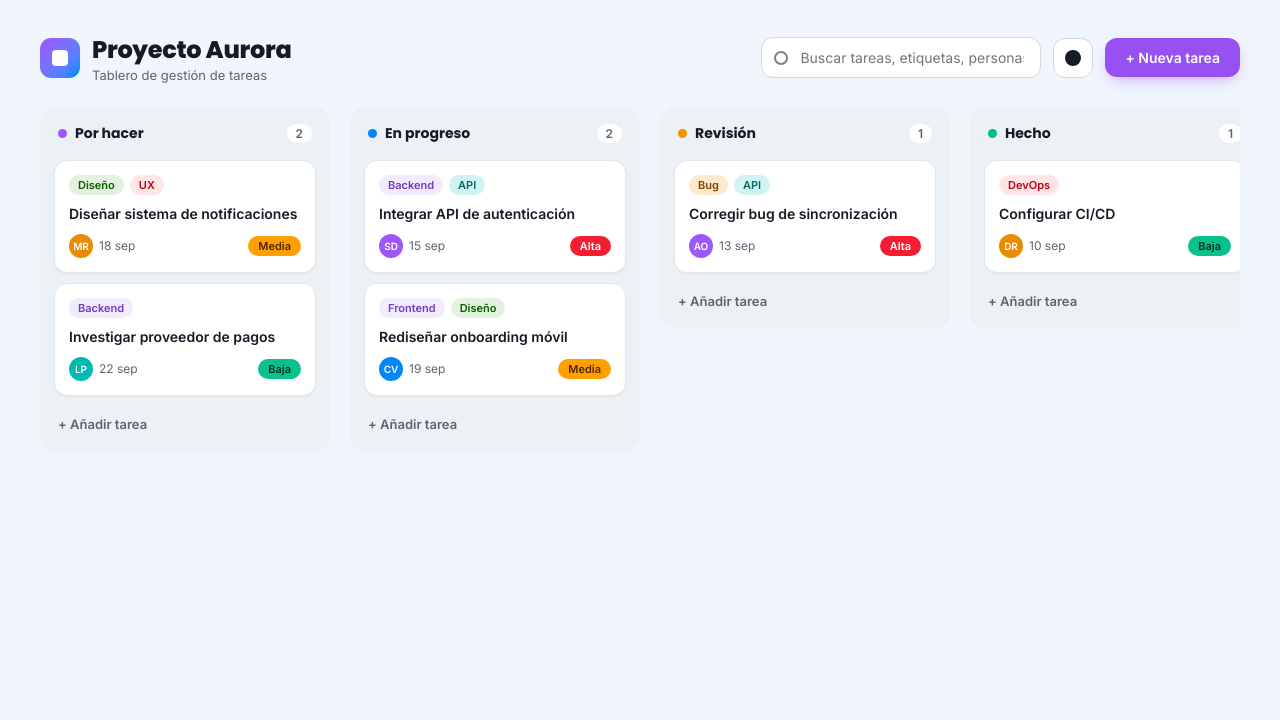
Test case: Task create/edit modal › closes without applying changes via Cancelar or the overlay
The image size is (1280, 720).
Click the text "Configurar CI/CD" at coordinates (1057, 214), box top-left (999, 205), bottom-right (1115, 222)
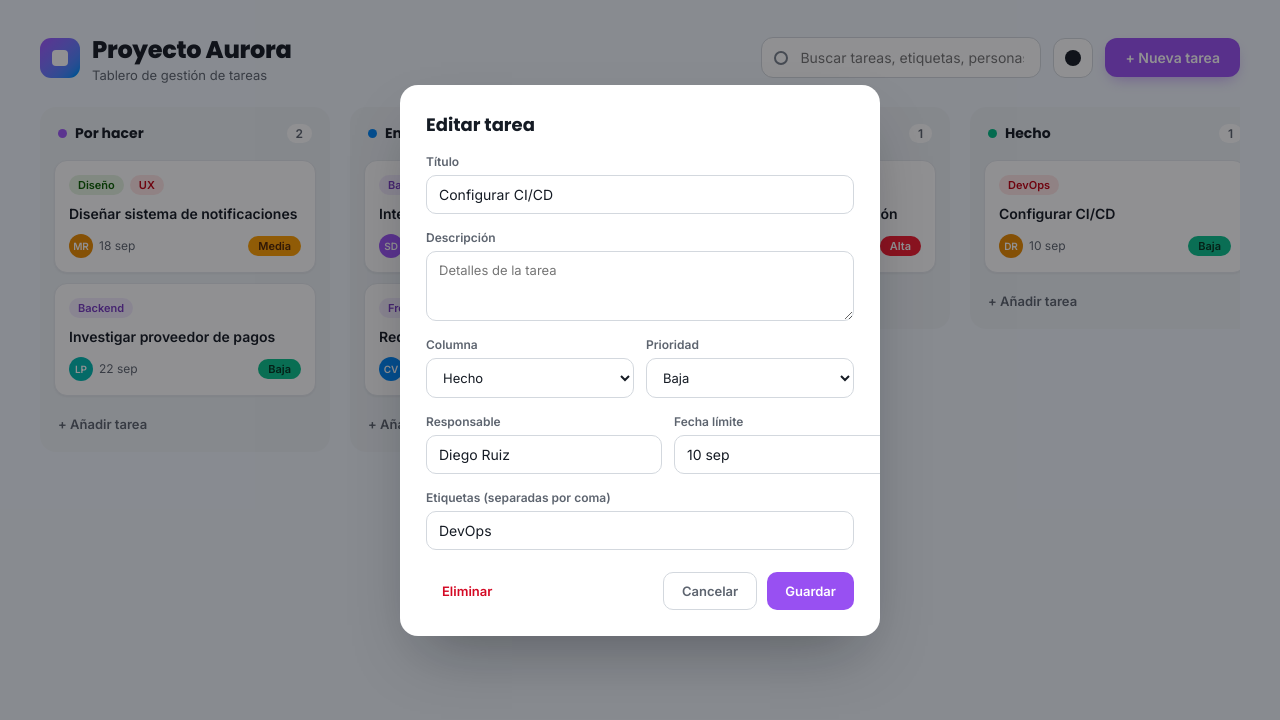
Replace the text in the field with placeholder "Nombre de la tarea" below "Título" with "Este cambio no debe guardarse" at coordinates (640, 194), box top-left (426, 174), bottom-right (854, 214)
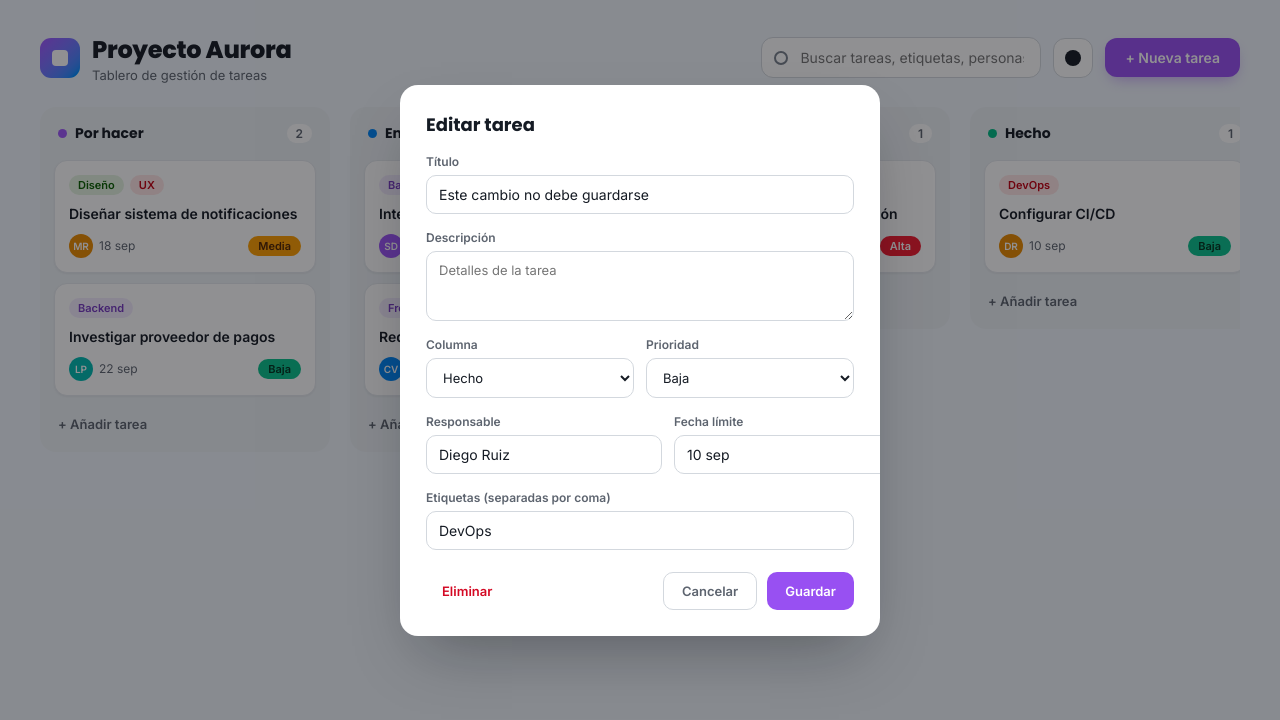
Click the button "Cancelar" at coordinates (710, 590), box top-left (663, 572), bottom-right (757, 610)
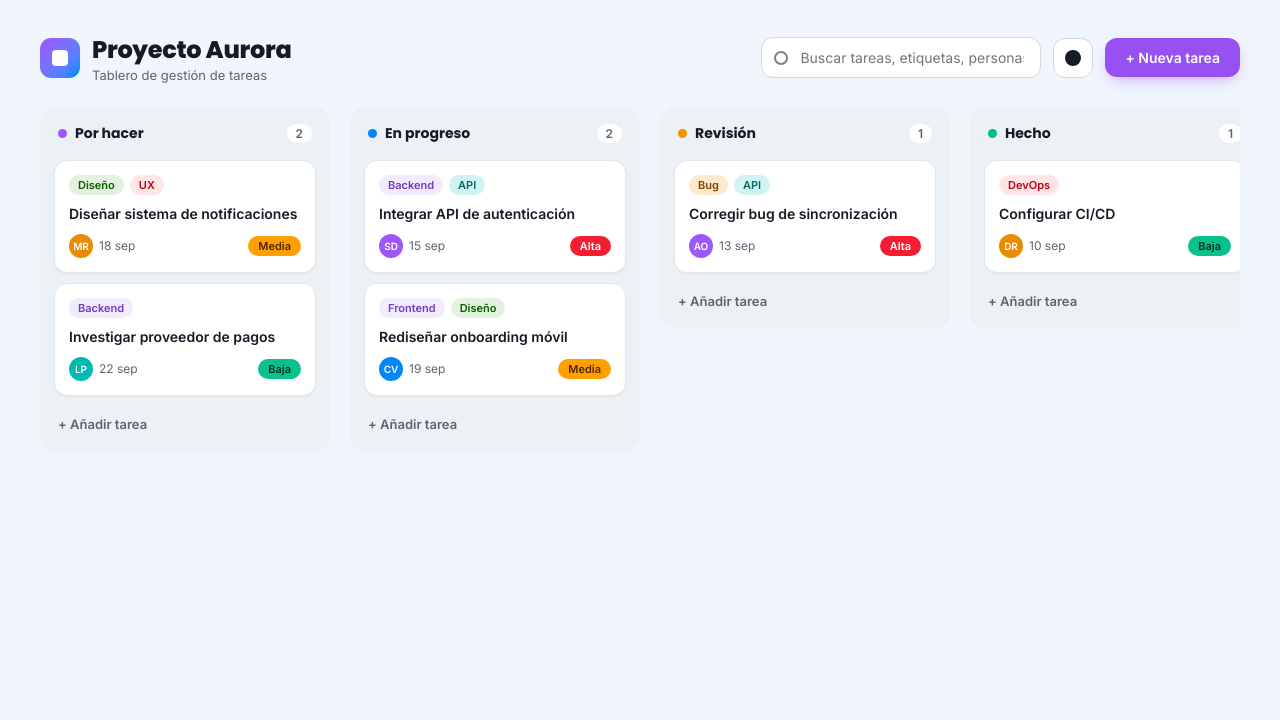
Expected: the text "Este cambio no debe guardarse" is not shown
Click the text "Configurar CI/CD" at coordinates (1057, 214), box top-left (999, 205), bottom-right (1115, 222)
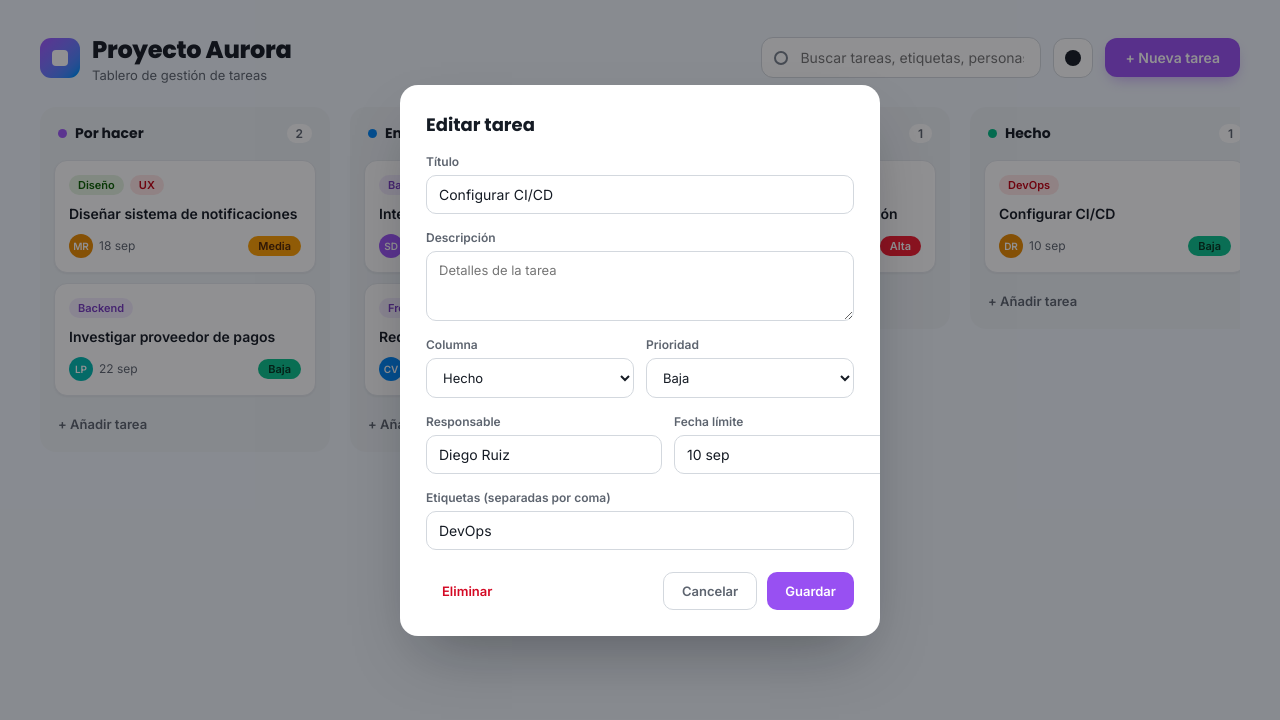
Click the element with class "kb2-overlay" at coordinates (77, 360), box top-left (0, 0), bottom-right (1279, 719)
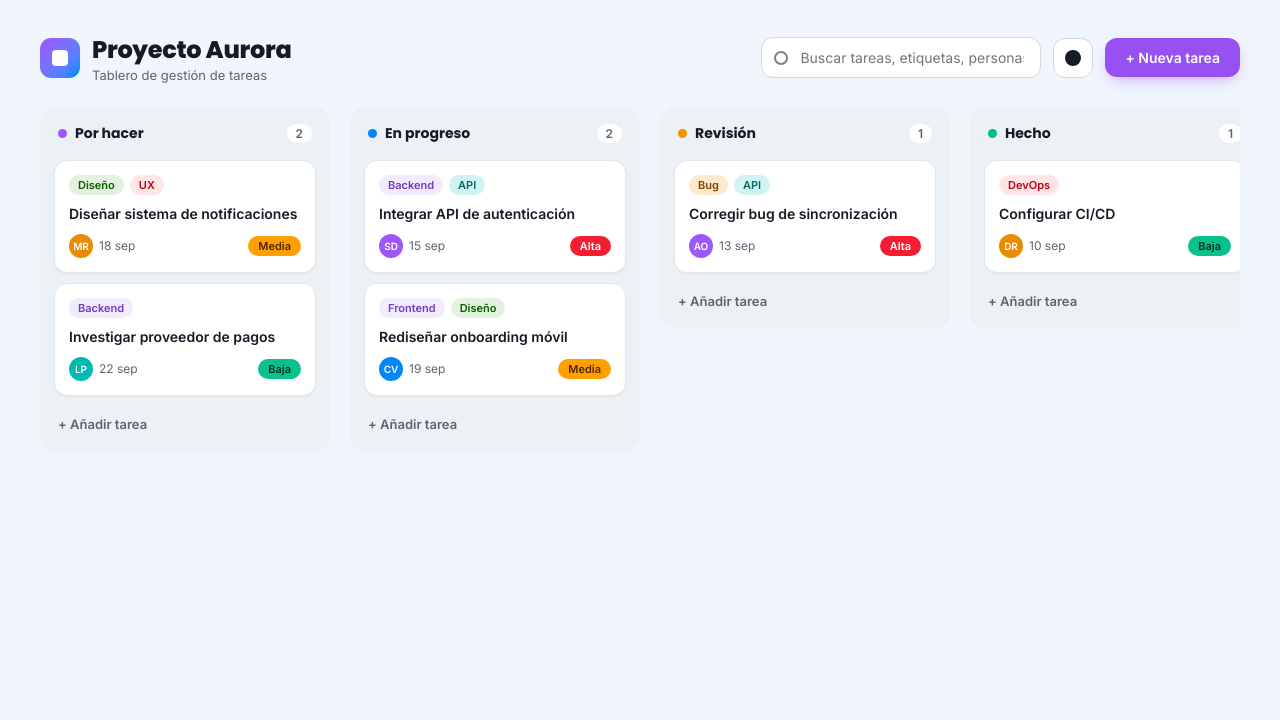
Now the text "Editar tarea" is gone
